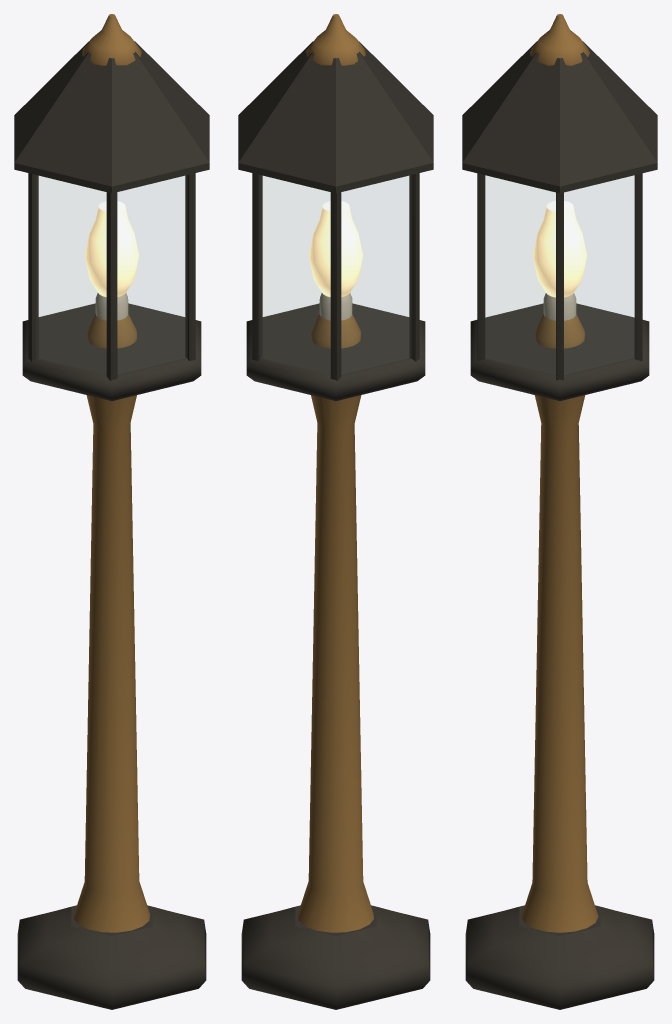
File: rpg-mansion-hexagonal-post-lantern-01.glb
3 renders of one model, left to right at view 1: azimuth 30°, elevation 25°; view 2: azimuth 150°, elevation 25°; view 3: azimuth 270°, elevation 25°, orthographic.
Visible parts, largest first — view 1: rpg-mansion-hexagonal-post-lantern-01; view 2: rpg-mansion-hexagonal-post-lantern-01; view 3: rpg-mansion-hexagonal-post-lantern-01.
Boxes of the visible parts, box(x1,y1,x2,y2) form: rpg-mansion-hexagonal-post-lantern-01: box(14, 14, 209, 1009); rpg-mansion-hexagonal-post-lantern-01: box(238, 14, 433, 1009); rpg-mansion-hexagonal-post-lantern-01: box(462, 14, 657, 1009).
Bounding box in the file's own units: 0.36 × 1.68 × 0.3118.
